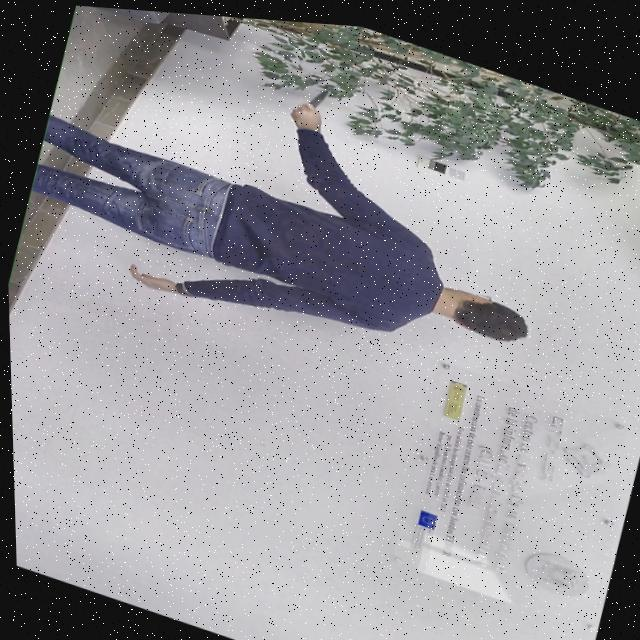knife: (300, 73, 333, 109)
